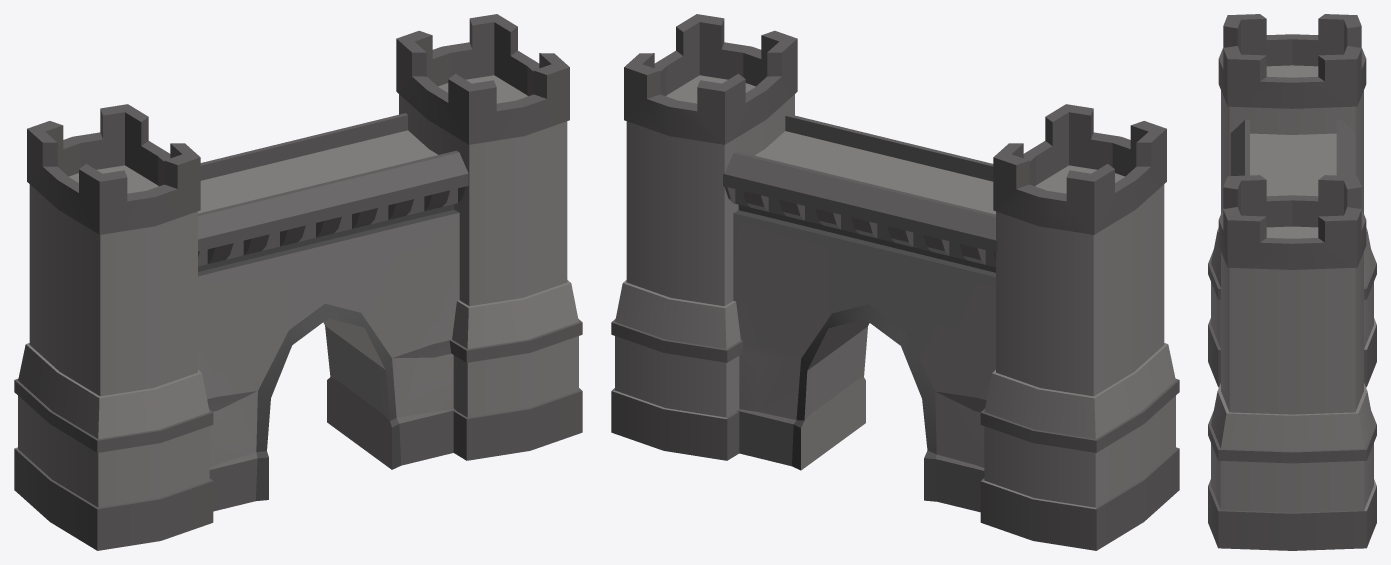
The model's file is mesh_Gate_Wall.fbx.
3 renders of one model, left to right at view 1: azimuth 30°, elevation 25°; view 2: azimuth 150°, elevation 25°; view 3: azimuth 270°, elevation 25°, orthographic. The views are drawn at different scales.
Visible parts, largest first — view 1: Gate_Wall; view 2: Gate_Wall; view 3: Gate_Wall.
Boxes of the visible parts, left/top/right/bottom form: Gate_Wall: left=14, top=14, right=582, bottom=550; Gate_Wall: left=611, top=14, right=1179, bottom=550; Gate_Wall: left=1208, top=14, right=1376, bottom=550.
Bounding box in the file's own units: 2423 × 1693 × 797.
Materials: 1 (1 with a texture image).
